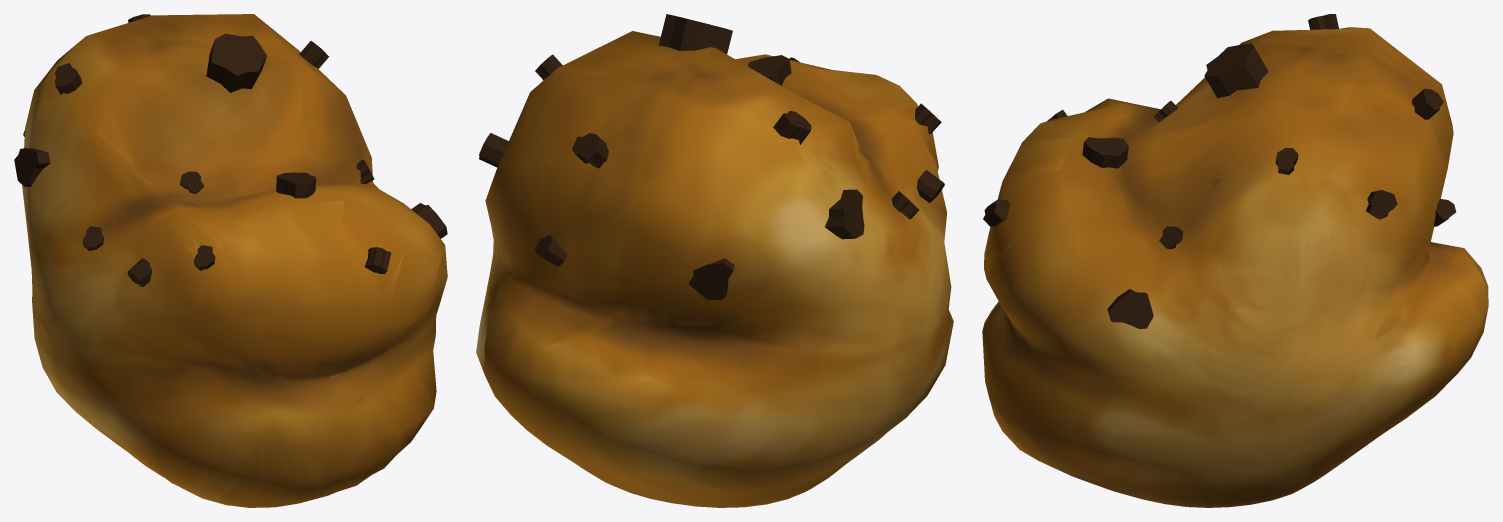
The model's file is Medium Bread.fbx.
The picture shows the model from 3 angles, left to right: view 1: azimuth 30°, elevation 25°; view 2: azimuth 150°, elevation 25°; view 3: azimuth 270°, elevation 25°; orthographic projection. The views are drawn at different scales.
Parts seen in each view (by area): view 1: Cube, Chunk 1, Chunk 3.001, Chunk 3, Chunk 2.001, Chunk 2.007, Chunk 3.002; view 2: Cube, Chunk 1, Chunk 3.001, Chunk 3.003, Chunk 2, Chunk 3, Chunk 2.001, Chunk 2.005, Chunk 2.008, Chunk 2.004; view 3: Cube, Chunk 1, Chunk 3.002, Chunk 3, Chunk 2, Chunk 2.005.
Boxes of the visible parts, x1,y1,x2,y2 form: Cube: [22, 14, 447, 507]; Chunk 1: [206, 33, 266, 92]; Chunk 3.001: [14, 148, 50, 186]; Chunk 3: [276, 172, 315, 198]; Chunk 2.001: [54, 63, 82, 94]; Chunk 2.007: [365, 247, 391, 273]; Chunk 3.002: [411, 203, 447, 238]; Cube: [476, 31, 953, 507]; Chunk 1: [658, 14, 732, 54]; Chunk 3.001: [825, 189, 864, 239]; Chunk 3.003: [689, 258, 734, 300]; Chunk 2: [572, 133, 608, 168]; Chunk 3: [747, 55, 791, 85]; Chunk 2.001: [773, 111, 811, 144]; Chunk 2.005: [479, 133, 508, 167]; Chunk 2.008: [535, 235, 566, 266]; Chunk 2.004: [917, 170, 944, 202]; Cube: [982, 27, 1488, 507]; Chunk 1: [1204, 43, 1268, 98]; Chunk 3.002: [1107, 289, 1153, 328]; Chunk 3: [1082, 137, 1128, 168]; Chunk 2: [1412, 88, 1443, 119]; Chunk 2.005: [1366, 190, 1397, 219].
Size of the model in its own units: 249 by 281 by 304.
Materials: 2 (1 with a texture image).
